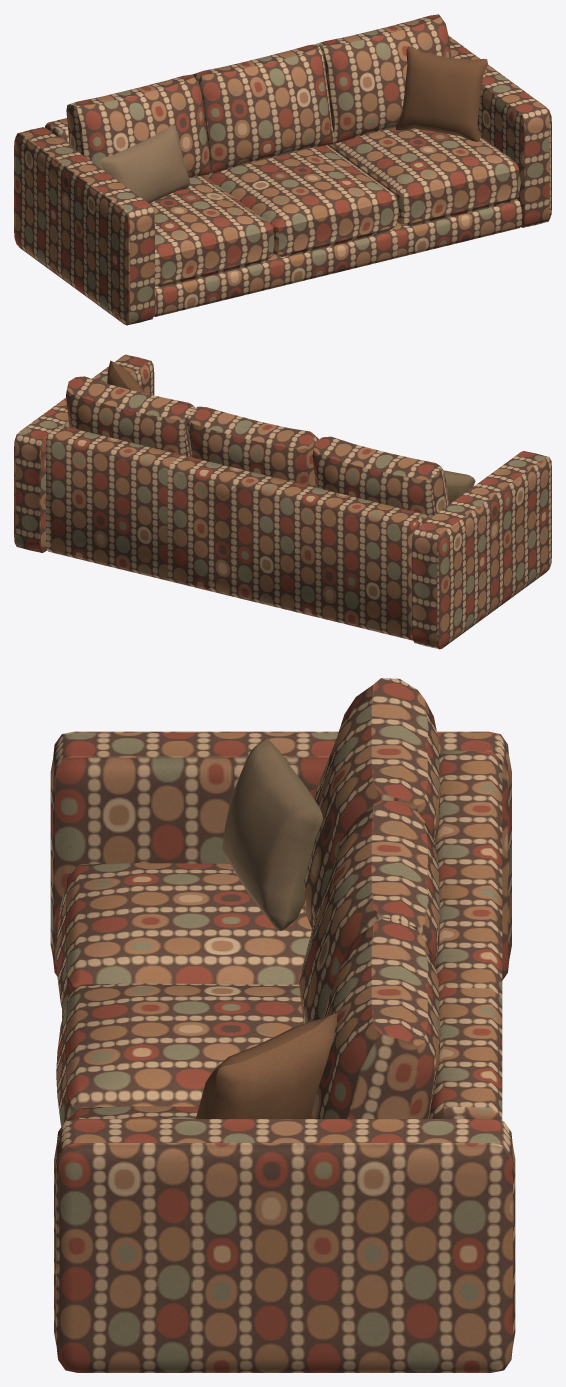
The model's file is VEH_Couch.glb.
3 views of the same model, one above another, from view 1: azimuth 30°, elevation 25°; view 2: azimuth 150°, elevation 25°; view 3: azimuth 270°, elevation 25° (orthographic). The views are drawn at different scales.
Parts seen in each view (by area): view 1: ob_veh_car_couch_base_s0; view 2: ob_veh_car_couch_base_s0; view 3: ob_veh_car_couch_base_s0.
Part boxes in pixels (bbox=[...]): ob_veh_car_couch_base_s0: bbox=[14, 14, 551, 325]; ob_veh_car_couch_base_s0: bbox=[14, 354, 551, 649]; ob_veh_car_couch_base_s0: bbox=[50, 678, 515, 1372].
Bounding box in the file's own units: 2.93 × 1.03 × 1.38.
1 material, 1 textured.
